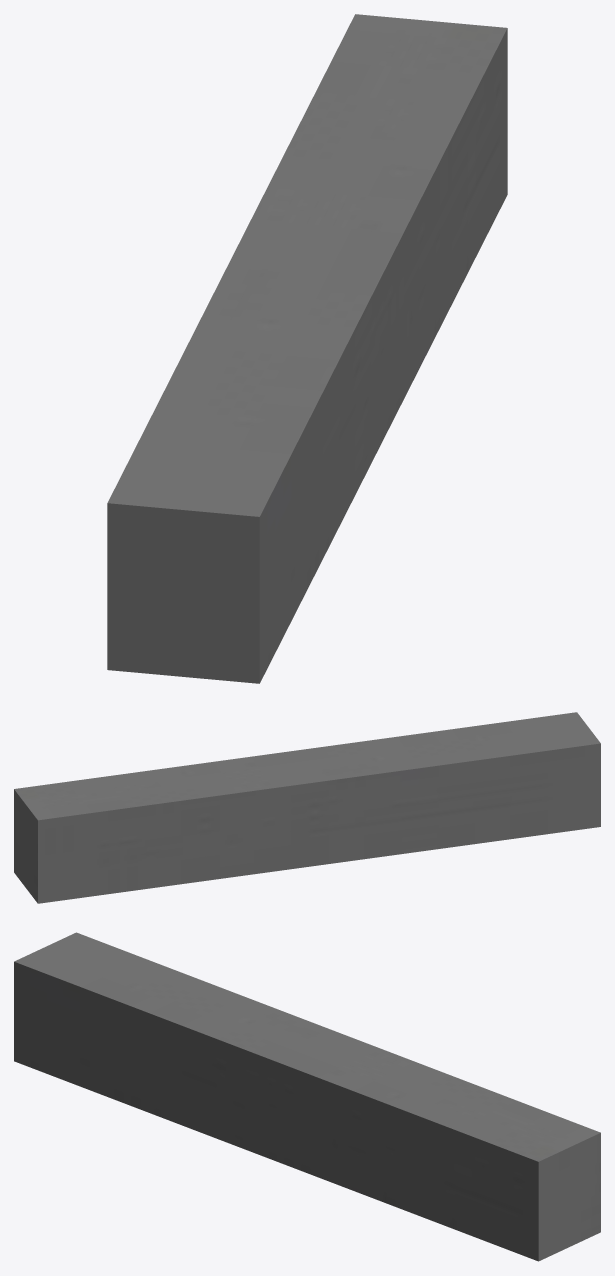
Rendered from frame__seat_hinge_strut.glb.
3 renders of one model, top to bottom at view 1: azimuth 30°, elevation 25°; view 2: azimuth 150°, elevation 25°; view 3: azimuth 270°, elevation 25°, orthographic. The views are drawn at different scales.
Parts seen in each view (by area): view 1: world; view 2: world; view 3: world.
Boxes of the visible parts, x1,y1,x2,y2 form: world: (107, 14, 507, 683); world: (14, 712, 600, 903); world: (14, 932, 600, 1261).
Bounding box in the file's own units: 0.3208 × 0.065 × 0.3469.
Materials: 1 (1 with a texture image).
